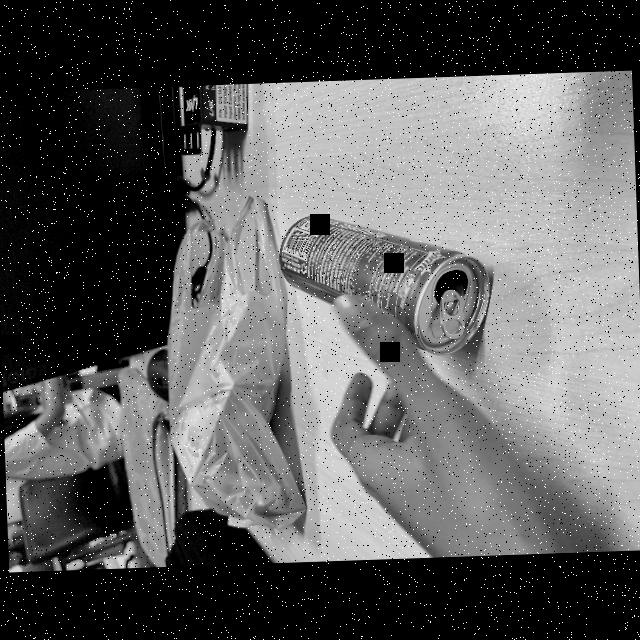can: (274, 192, 495, 370)
